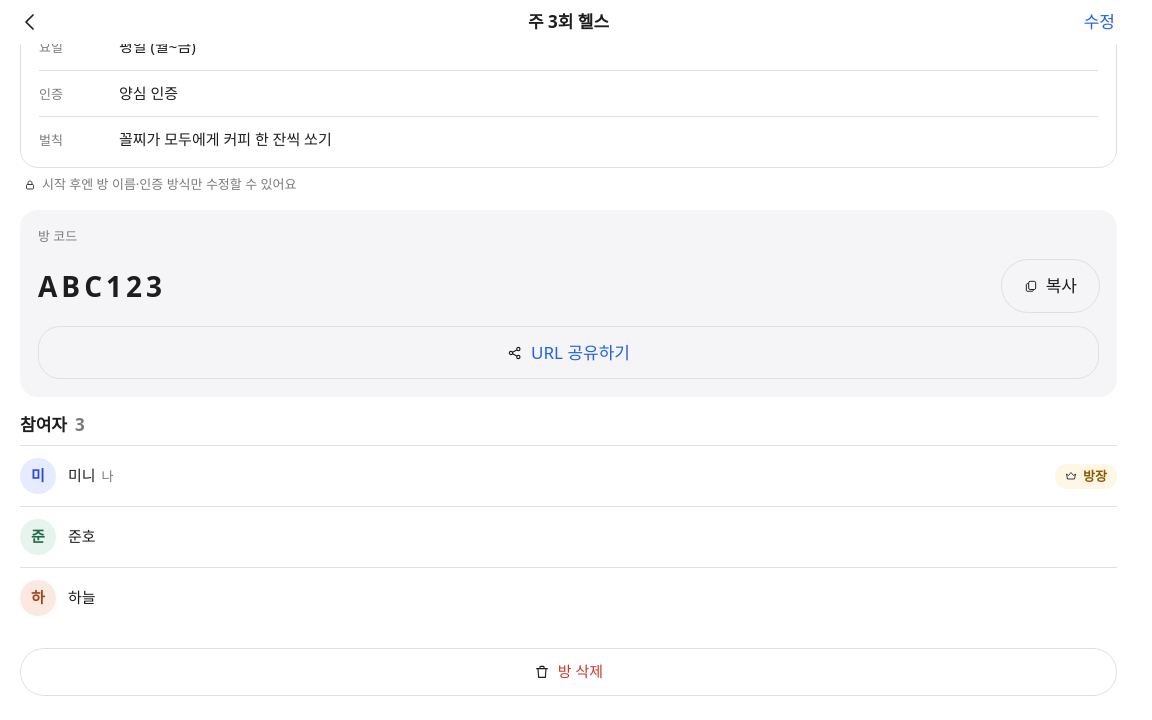
방 삭제 모달 › 삭제 버튼을 누르면 참여자 수를 담은 확인 모달이 열린다
(page scrolled)
Click the button "방 삭제" at point(568, 672), box x1=20 y1=648 x2=1117 y2=696
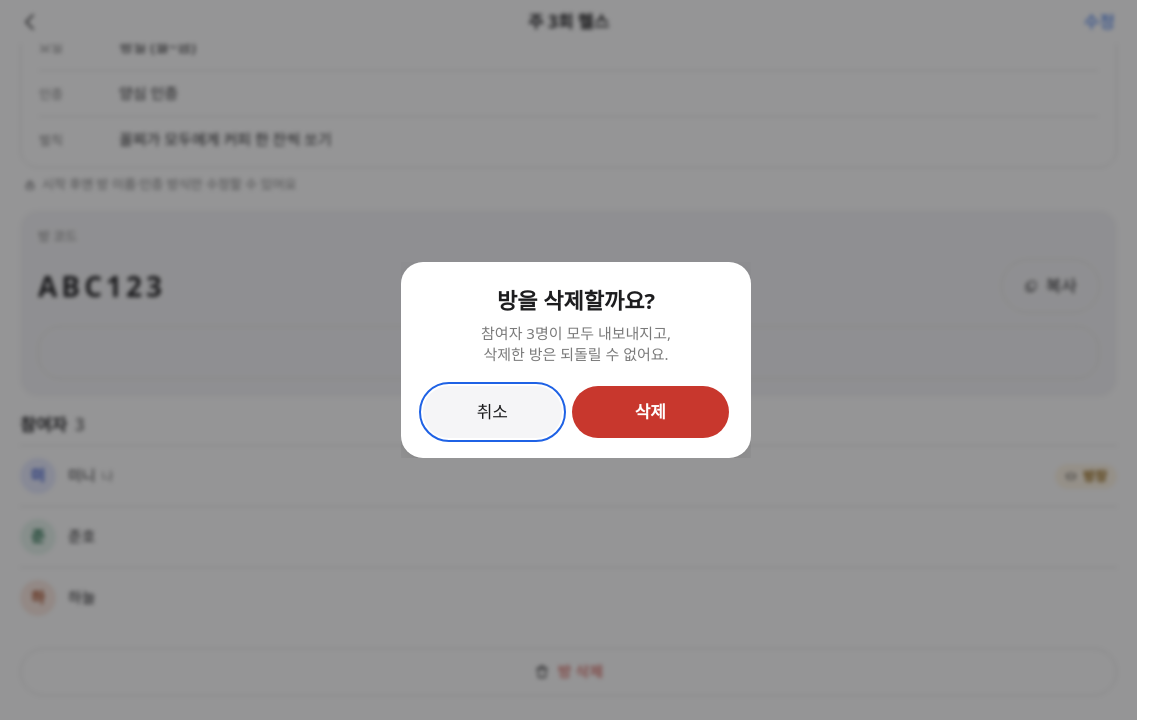
Expected: the dialog shows "참여자 3명이 모두 내보내지고,", x1=401 y1=262 x2=751 y2=458
